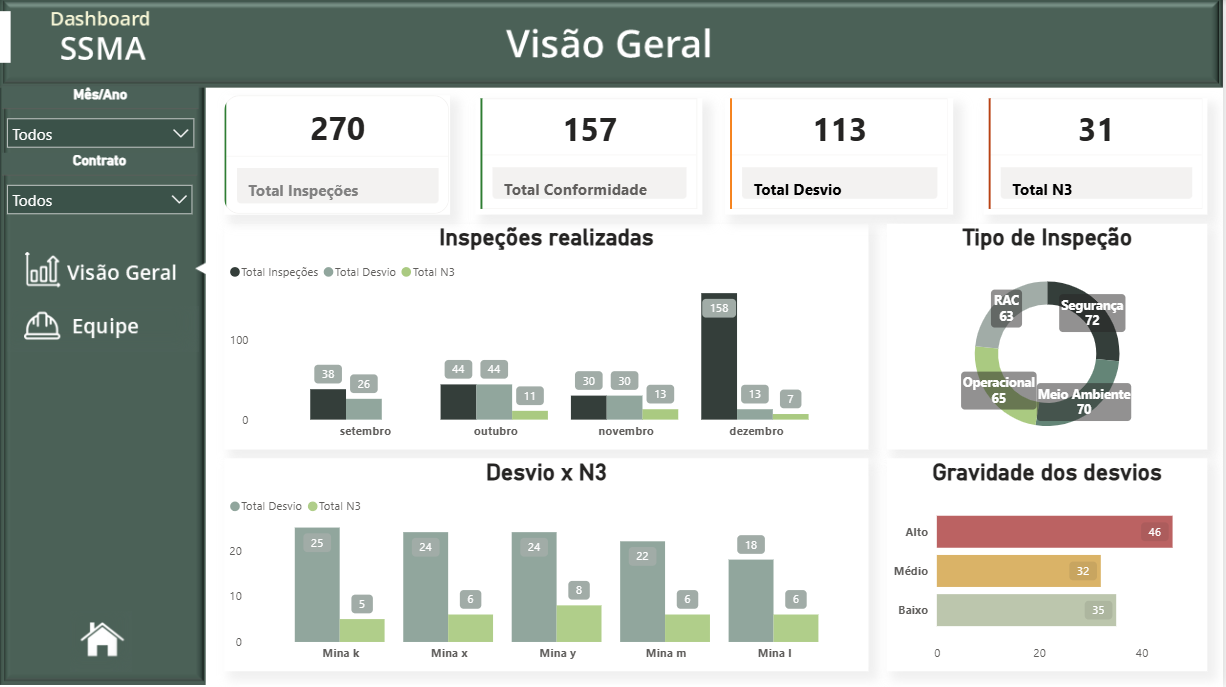

What the dashboard file says about the page in this screenshot:
{"tool":"powerbi","page":{"name":"Visão Geral","canvas":[1280,720],"ordinal":1},"visuals":[{"type":"clusteredColumnChart","title":"Inspeções realizadas","fields":{"Category":["dCalendario.Datas.Variation.Hierarquia de datas.Mês"],"Y":["fInspecoes.Total Inspeções","fInspecoes.Total Desvio","fInspecoes.Total N3"]},"box":[235.7,234.1,674,235.7],"z":0},{"type":"clusteredColumnChart","title":"Desvio x N3","fields":{"Category":["Inspeções.LOCAL"],"Y":["Inspeções.Total Desvio","Inspeções.Total N3"]},"box":[235.7,479.4,674,223.1],"z":1000},{"type":"cardVisual","title":"Total Inspeções","fields":{"Data":["Inspeções.Total Inspeções"]},"box":[235.2,99.7,235.7,125],"z":2000},{"type":"cardVisual","title":"Total N3","fields":{"Data":["Inspeções.Total N3"]},"box":[1029.4,102.9,234.1,121.8],"z":3000},{"type":"cardVisual","title":"Total Desvio","fields":{"Data":["Inspeções.Total Desvio"]},"box":[759.4,102.8,238.9,121.8],"z":4000},{"type":"cardVisual","title":"Total Conformidade","fields":{"Data":["Inspeções.Total Conformidade"]},"box":[497.8,102.9,237.3,121.8],"z":5000},{"type":"donutChart","title":"Tipo de Inspeção","fields":{"Y":["Inspeções.Total Inspeções"],"Category":["Inspeções.TIPO"]},"box":[928.7,234.1,335.4,235.7],"z":6000},{"type":"slicer","title":"Mês/Ano","fields":{"Values":["dCalendario.Datas.Variation.Hierarquia de datas.Ano","dCalendario.Datas.Variation.Hierarquia de datas.Mês"]},"box":[3.2,89.6,205.7,75.9],"z":7000},{"type":"actionButton","box":[74.4,639.2,64.9,63.3],"z":8000},{"type":"actionButton","box":[7.9,319.6,200.9,49],"z":9000},{"type":"slicer","title":"Contrato","fields":{"Values":["fInspecoes.LOCAL"]},"box":[3.2,159.2,204.1,71.2],"z":10000},{"type":"barChart","title":"Gravidade dos desvios","fields":{"Y":["fInspecoes.Total Desvio"],"Category":["fInspecoes.GRAVIDADE"]},"box":[928.7,479.4,335.4,223.1],"z":11000}]}

Visuals, with their boxes in screenshot pixels (x1, y1, x2, y2), scaled from the page's 1280x720 canvas onto the 1226x687 screenshot:
"Inspeções realizadas" clusteredColumnChart: [left=226, top=223, right=871, bottom=448]
"Desvio x N3" clusteredColumnChart: [left=226, top=457, right=871, bottom=670]
"Total Inspeções" cardVisual: [left=225, top=95, right=451, bottom=214]
"Total N3" cardVisual: [left=986, top=98, right=1210, bottom=214]
"Total Desvio" cardVisual: [left=727, top=98, right=956, bottom=214]
"Total Conformidade" cardVisual: [left=477, top=98, right=704, bottom=214]
"Tipo de Inspeção" donutChart: [left=890, top=223, right=1211, bottom=448]
"Mês/Ano" slicer: [left=3, top=85, right=200, bottom=158]
actionButton: [left=71, top=610, right=133, bottom=670]
actionButton: [left=8, top=305, right=200, bottom=352]
"Contrato" slicer: [left=3, top=152, right=199, bottom=220]
"Gravidade dos desvios" barChart: [left=890, top=457, right=1211, bottom=670]
